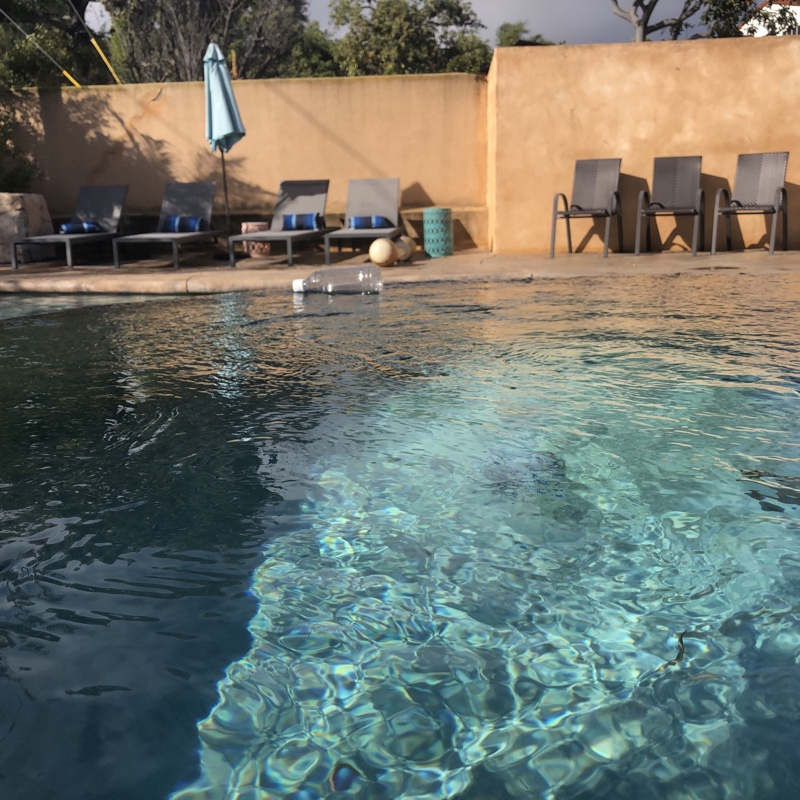Plastic Bottle: (291, 262, 386, 297)
